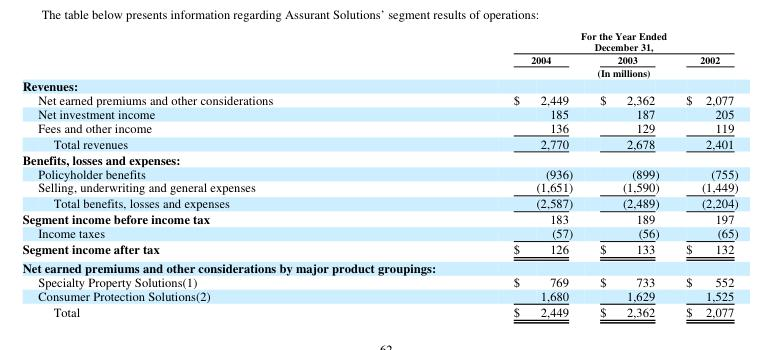table: (21, 28, 737, 319)
table column: (21, 28, 392, 319), (392, 28, 585, 319), (585, 28, 671, 319), (671, 28, 737, 319)
table column header: (21, 28, 737, 78)
table projected row header: (21, 150, 737, 166), (21, 258, 737, 274), (21, 78, 737, 92)
table row: (21, 28, 737, 53), (21, 240, 737, 258), (21, 134, 737, 150), (21, 150, 737, 166), (21, 194, 737, 210), (21, 258, 737, 274), (21, 303, 737, 319), (21, 119, 737, 134), (21, 179, 737, 194), (21, 210, 737, 225), (21, 225, 737, 240), (21, 288, 737, 303), (21, 78, 737, 92), (21, 105, 737, 119), (21, 274, 737, 288), (21, 53, 737, 66), (21, 92, 737, 105), (21, 166, 737, 179), (21, 66, 737, 78)
table spanning cell: (392, 28, 737, 53), (392, 66, 737, 78)
